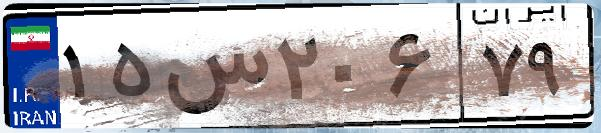0: (330, 28, 385, 110)
1: (57, 26, 110, 100)
2: (270, 28, 330, 110)
5: (110, 28, 158, 98)
6: (385, 28, 445, 110)
7: (475, 38, 525, 113)
9: (525, 38, 570, 115)
س: (158, 20, 270, 120)
